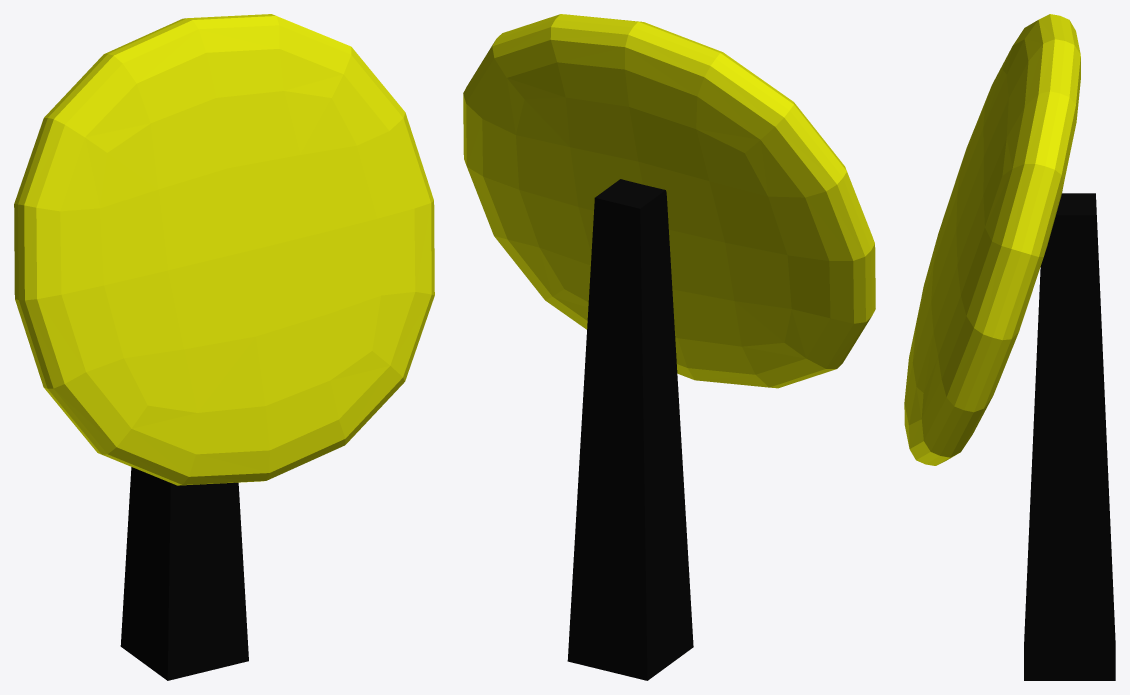
Rendered from монетин.fbx.
3 views of the same model, side by side, from view 1: azimuth 30°, elevation 25°; view 2: azimuth 150°, elevation 25°; view 3: azimuth 270°, elevation 25° (orthographic). The views are drawn at different scales.
Parts seen in each view (by area): view 1: Cube.001, Cube; view 2: Cube.001, Cube; view 3: Cube.001, Cube.
Boxes of the visible parts, <box> form: Cube.001: <box>14,14,434,485</box>; Cube: <box>120,467,248,680</box>; Cube.001: <box>463,14,875,388</box>; Cube: <box>567,179,693,680</box>; Cube.001: <box>904,14,1080,465</box>; Cube: <box>1024,193,1115,680</box>.
Bounding box in the file's own units: 183 × 272 × 83.72.
